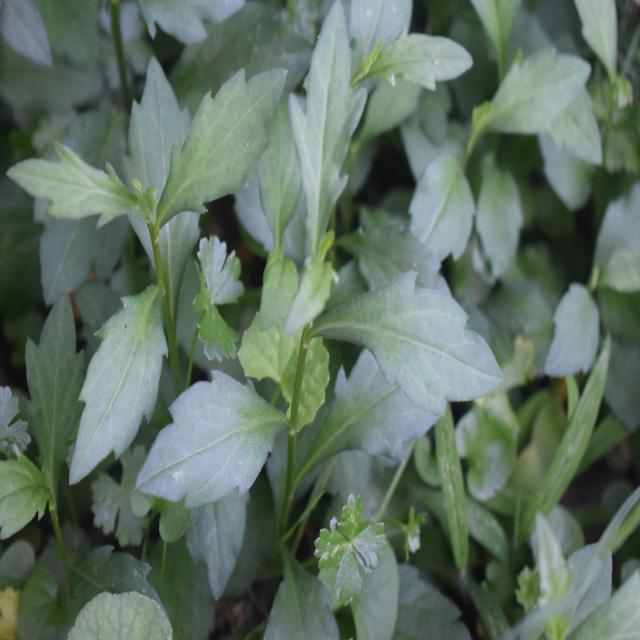Indian aster: (210, 49, 490, 489), (51, 53, 241, 507)
